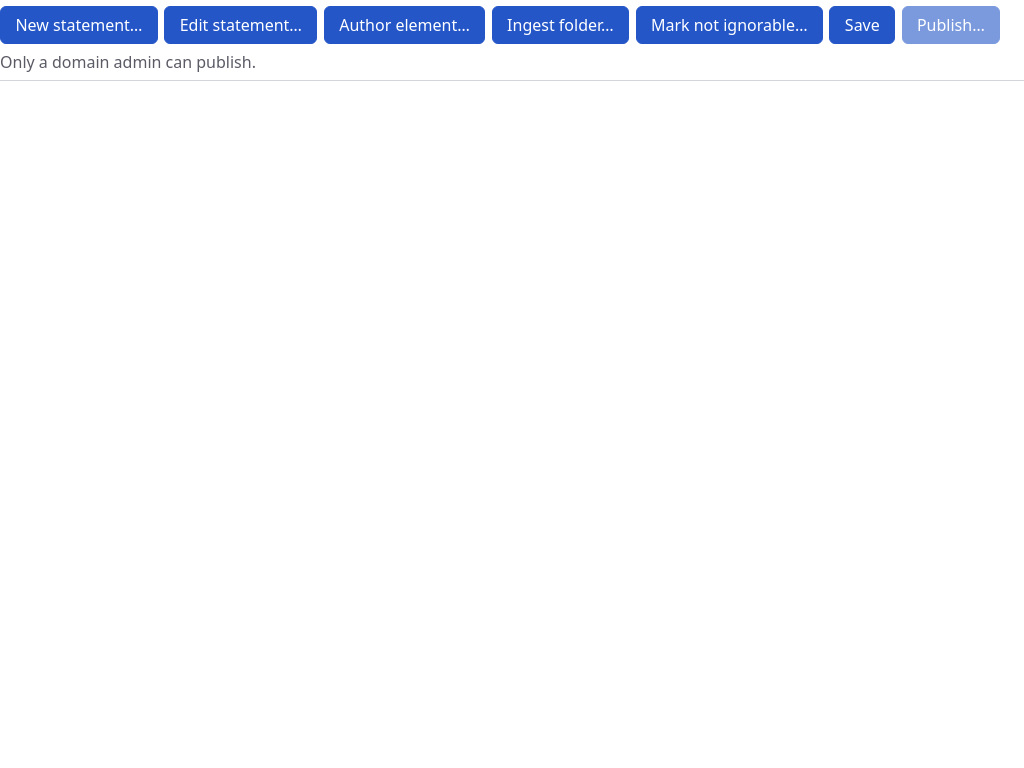
statement_dialogs › new_statement_is_posted
The image size is (1024, 768).
Click the button "New statement…" at [79, 25], box [0,6,158,44]
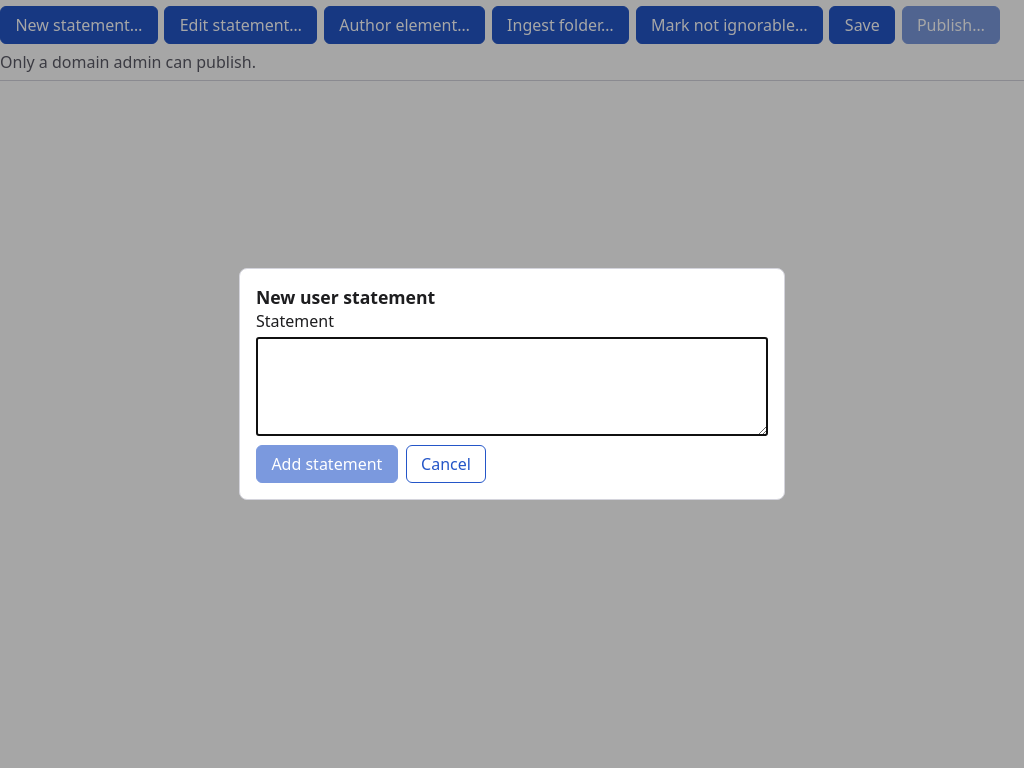
Expected: the button "Add statement" is disabled, [256,445,398,483]
Type "Cats nap a lot." into the text box labelled "Statement" at [512, 386], box [256,337,768,436]
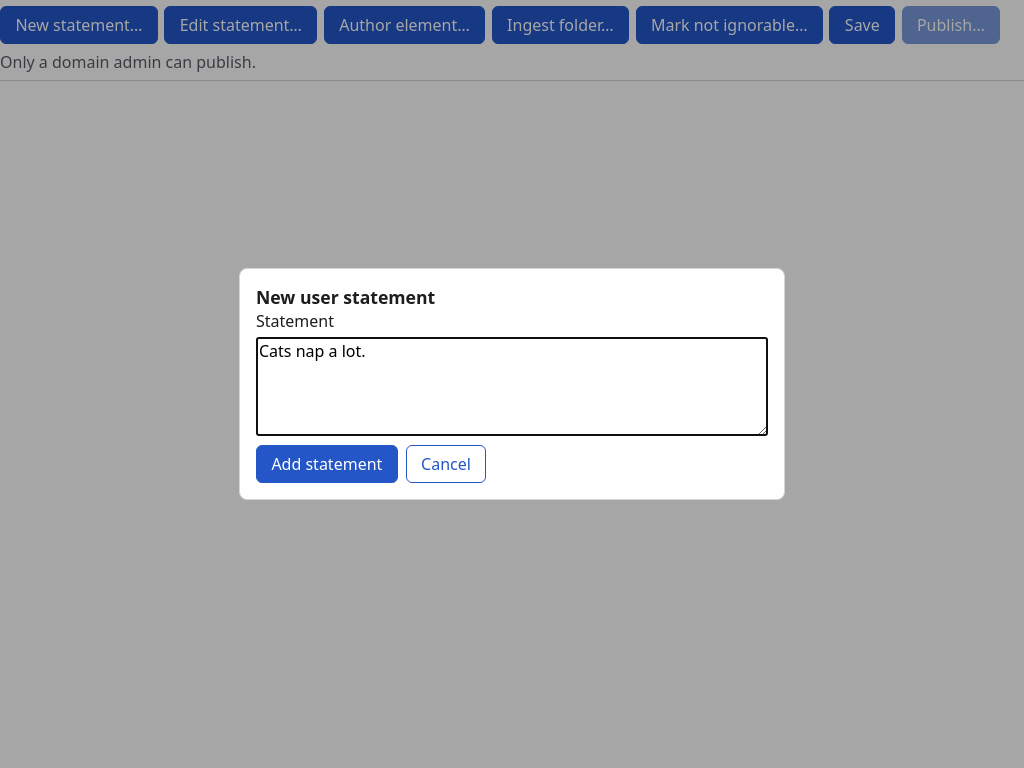
Click the button "Add statement" at [327, 464], box [256,445,398,483]
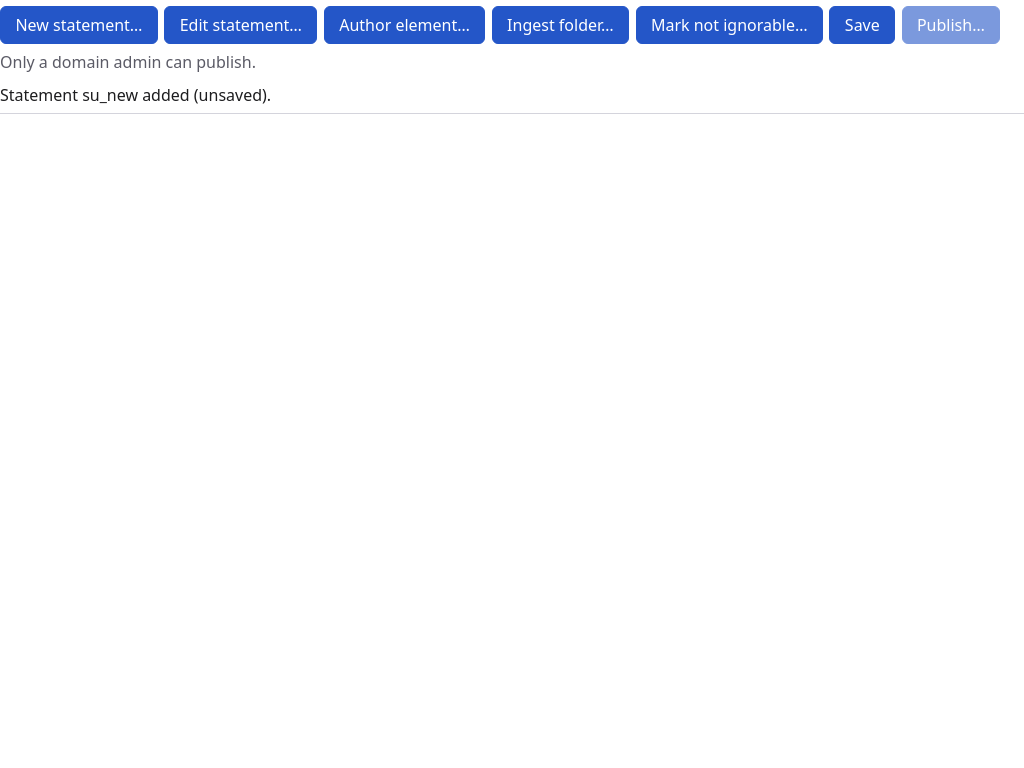
Expected: the dialog is gone
Expected: the message shows "su_new", [0,84,271,106]
